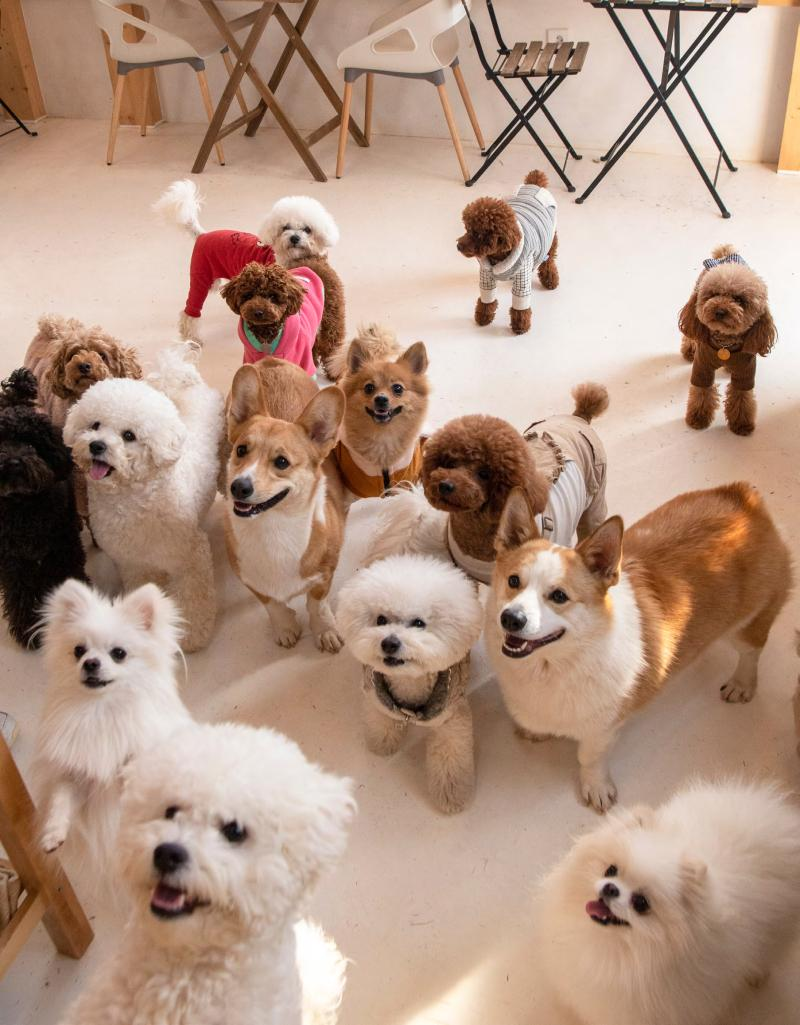dogs: (500, 480, 784, 802), (532, 782, 800, 1025), (116, 740, 342, 1025), (28, 566, 177, 845), (82, 358, 219, 651), (346, 558, 488, 811), (432, 388, 624, 547), (0, 366, 87, 649), (152, 174, 357, 294), (676, 234, 785, 445), (454, 154, 575, 332), (342, 314, 438, 500), (218, 248, 353, 355), (34, 298, 138, 395)
